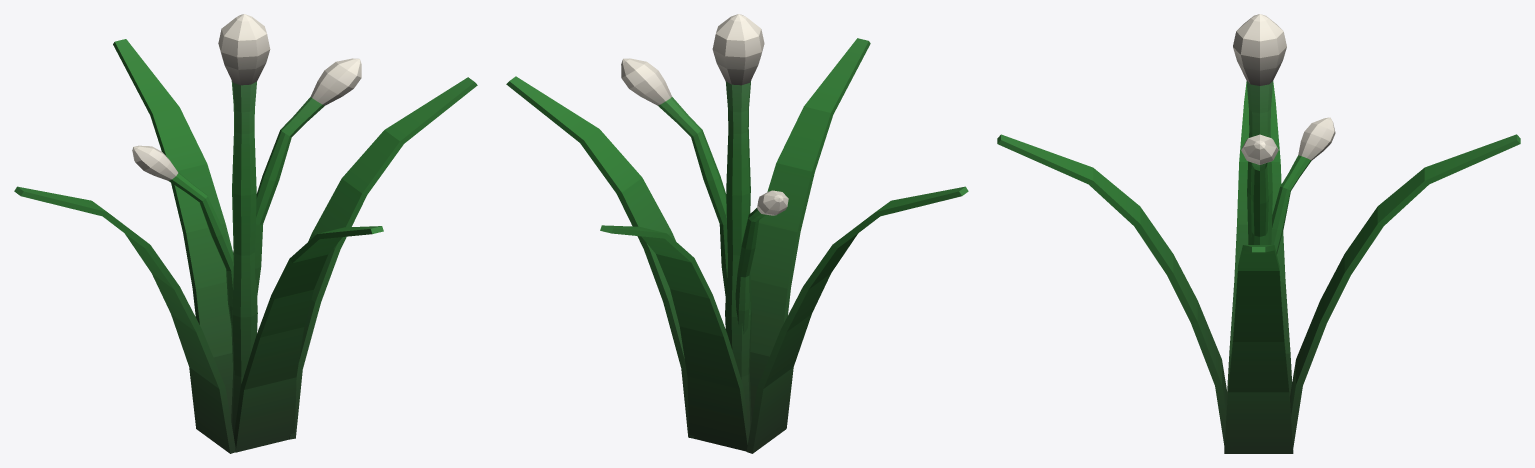
Rendered from Water_Plant1.fbx.
The picture shows the model from 3 angles, left to right: view 1: azimuth 30°, elevation 25°; view 2: azimuth 150°, elevation 25°; view 3: azimuth 270°, elevation 25°; orthographic projection.
Visible parts, largest first — view 1: Plant; view 2: Plant; view 3: Plant.
Boxes of the visible parts, box(x1,y1,x2,y2) form: Plant: box(14, 14, 477, 453); Plant: box(506, 14, 968, 453); Plant: box(997, 14, 1520, 453).
Bounding box in the file's own units: 75.28 × 66.16 × 74.08.
1 material, 1 textured.
